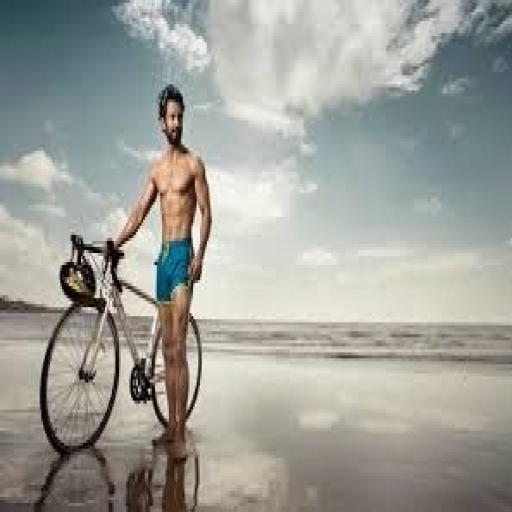cycling: (102, 81, 214, 452)
